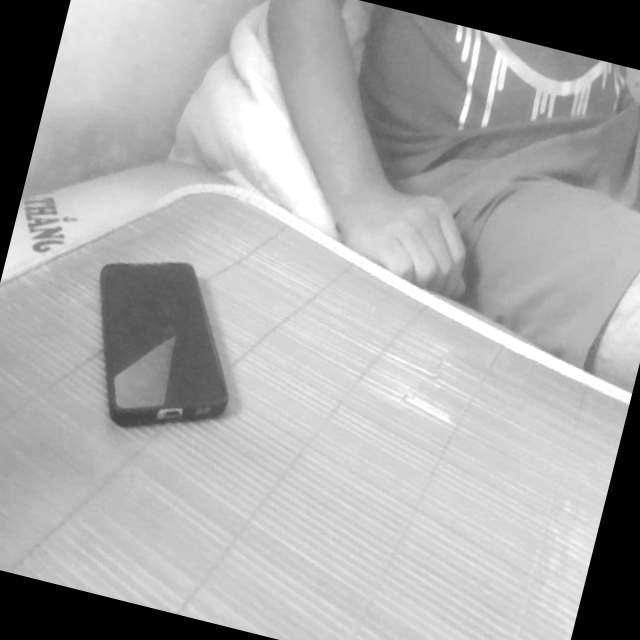phone: (46, 216, 276, 478)
